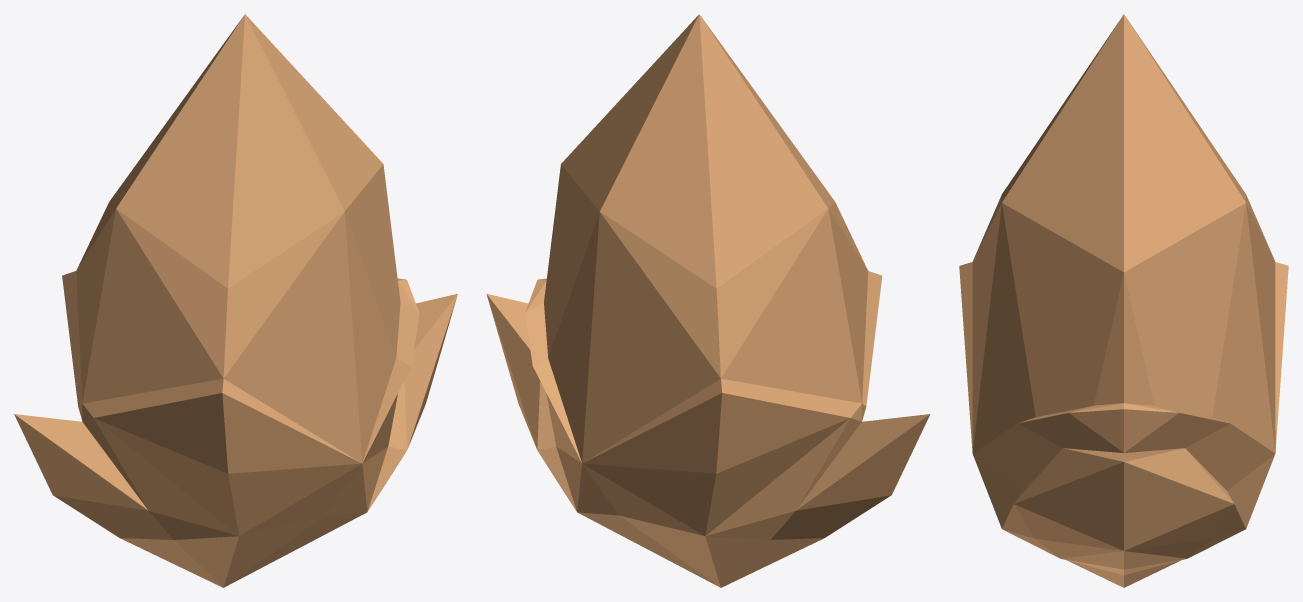
File: Seed.fbx
3 renders of one model, left to right at view 1: azimuth 30°, elevation 25°; view 2: azimuth 150°, elevation 25°; view 3: azimuth 270°, elevation 25°, orthographic. The views are drawn at different scales.
Parts seen in each view (by area): view 1: Seed; view 2: Seed; view 3: Seed.
Part boxes in pixels (x1=…): Seed: x1=14, y1=14, x2=457, y2=587; Seed: x1=486, y1=14, x2=930, y2=587; Seed: x1=959, y1=14, x2=1288, y2=587.
Size of the model in its own units: 125 by 153 by 78.33.
